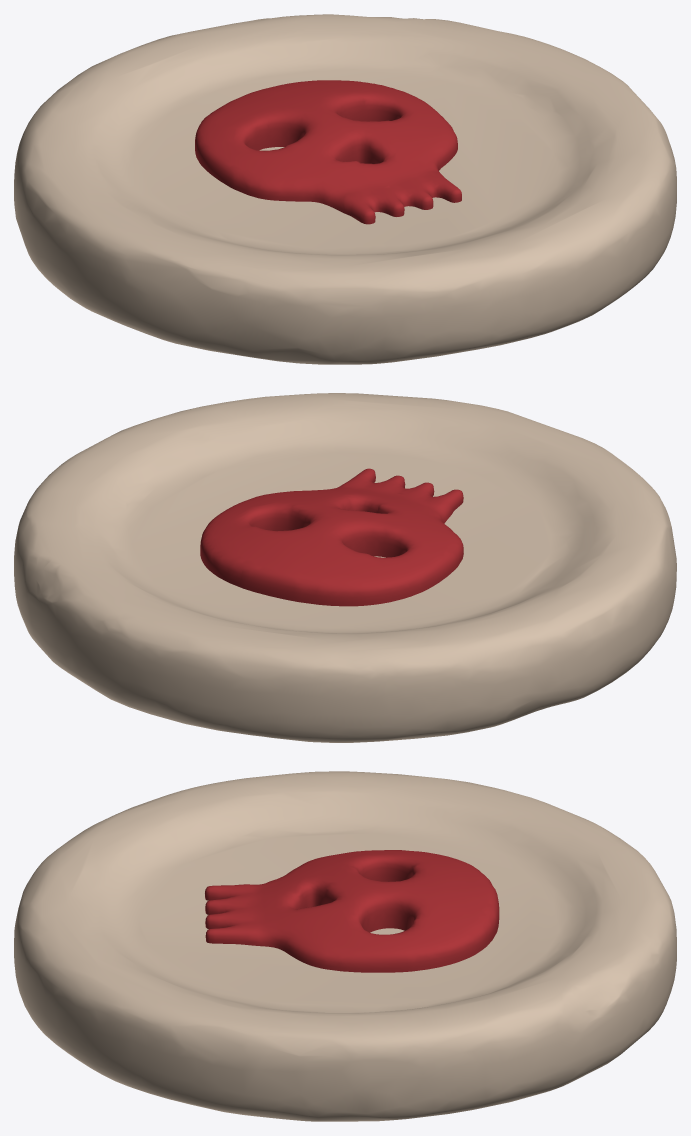
The model's file is token-necromancer-red-draco.glb.
3 views of the same model, one above another, from view 1: azimuth 30°, elevation 25°; view 2: azimuth 150°, elevation 25°; view 3: azimuth 270°, elevation 25° (orthographic).
Parts seen in each view (by area): view 1: token_necromancer_red; view 2: token_necromancer_red; view 3: token_necromancer_red.
Part boxes in pixels (x1,y1,x2,y2): token_necromancer_red: (14,14,676,364); token_necromancer_red: (14,393,676,742); token_necromancer_red: (14,771,676,1121).
Bounding box in the file's own units: 0.4141 × 0.0722 × 0.4142.
